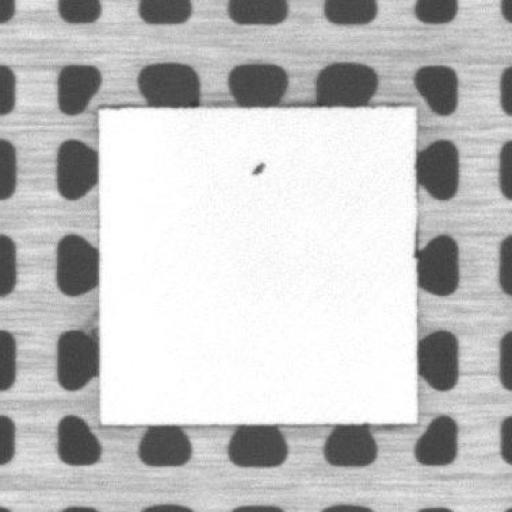DIE_INK: (249, 159, 267, 177)
